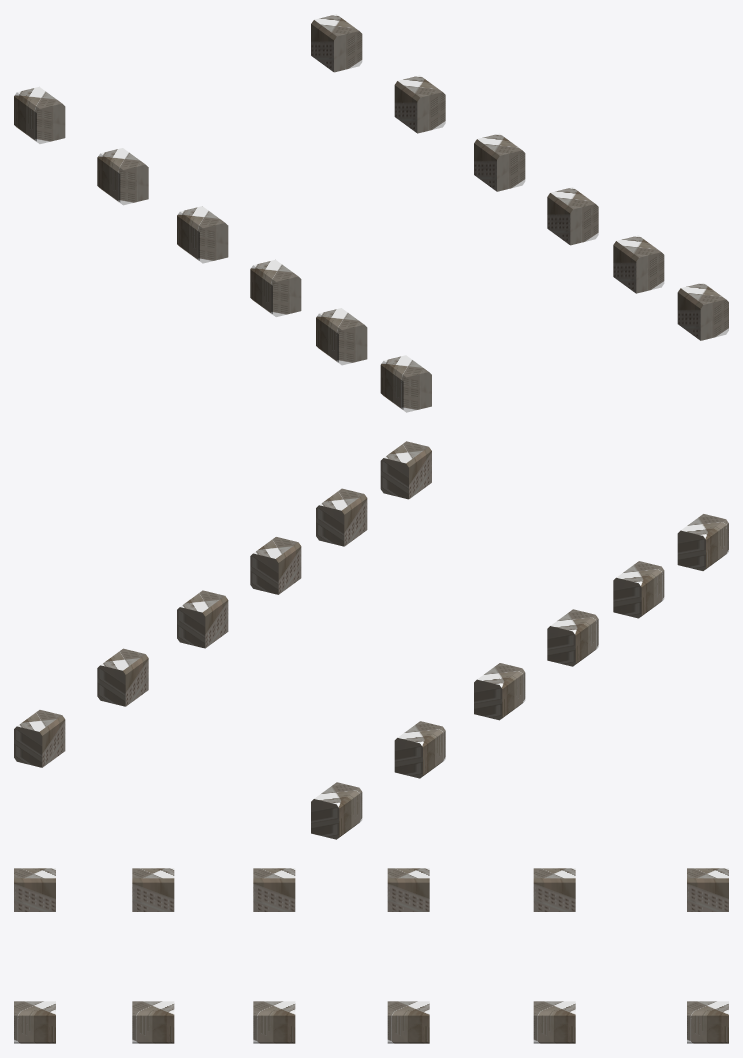
3 views of the same model, one above another, from view 1: azimuth 30°, elevation 25°; view 2: azimuth 150°, elevation 25°; view 3: azimuth 270°, elevation 25° (orthographic). The views are drawn at different scales.
Visible parts, largest first — view 1: Cube.001, Cube.012, Cube.011, Cube.003, Cube.002, Cube.021; view 2: Cube.021, Cube.003, Cube.001, Cube.012, Cube.002, Cube.011; view 3: Cube.012, Cube.001, Cube.002, Cube.003, Cube.021, Cube.011.
Part boxes in pixels (x1,y1,x2,y2): Cube.001: (250, 187, 598, 316); Cube.012: (316, 235, 664, 365); Cube.011: (14, 14, 362, 143); Cube.003: (97, 75, 445, 205); Cube.002: (177, 133, 525, 263); Cube.021: (380, 283, 728, 412); Cube.021: (380, 441, 728, 570); Cube.003: (97, 648, 445, 778); Cube.001: (250, 537, 598, 666); Cube.012: (316, 488, 664, 618); Cube.002: (177, 590, 525, 720); Cube.011: (14, 710, 362, 839); Cube.012: (132, 868, 174, 1043); Cube.001: (253, 868, 295, 1043); Cube.002: (387, 868, 429, 1043); Cube.003: (533, 868, 575, 1043); Cube.021: (14, 868, 55, 1043); Cube.011: (687, 868, 728, 1043).
Bounding box in the file's own units: 190 × 19.66 × 393.
